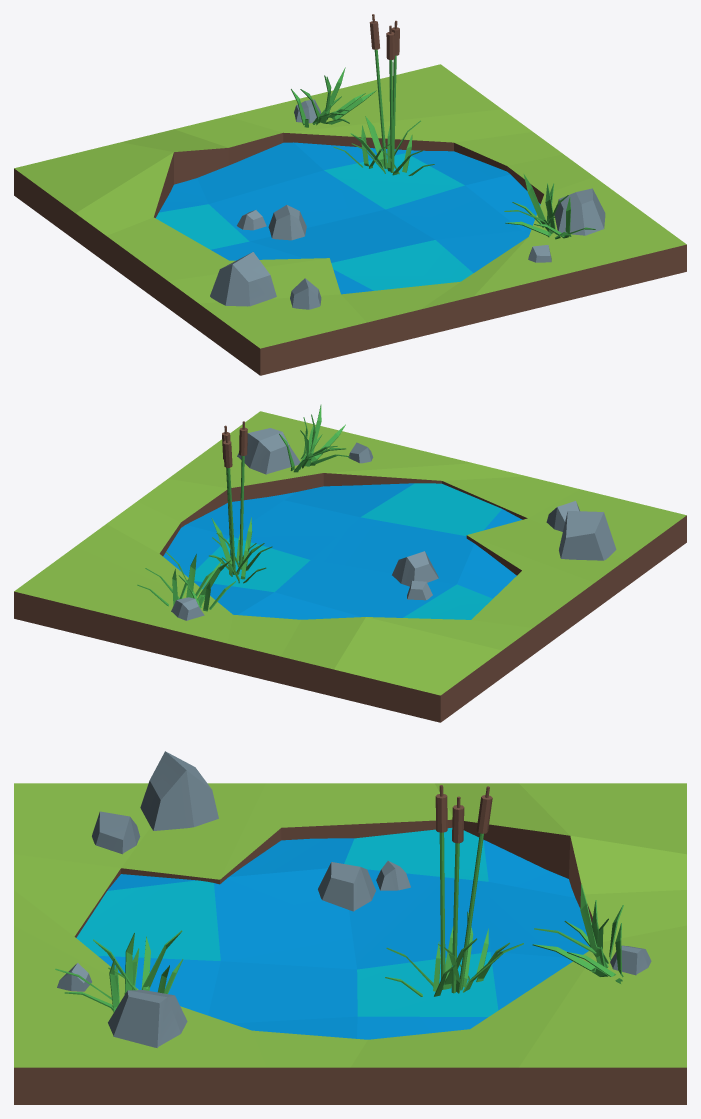
3 views of the same model, one above another, from view 1: azimuth 30°, elevation 25°; view 2: azimuth 150°, elevation 25°; view 3: azimuth 270°, elevation 25° (orthographic). The views are drawn at different scales.
Visible parts, largest first — view 1: pond_01_Cube.010; view 2: pond_01_Cube.010; view 3: pond_01_Cube.010.
Boxes of the visible parts, x1,y1,x2,y2 form: pond_01_Cube.010: (14,14,686,375); pond_01_Cube.010: (14,404,686,722); pond_01_Cube.010: (14,751,686,1104).
Size of the model in its own units: 200 by 73.87 by 200.
1 material, 1 textured.
